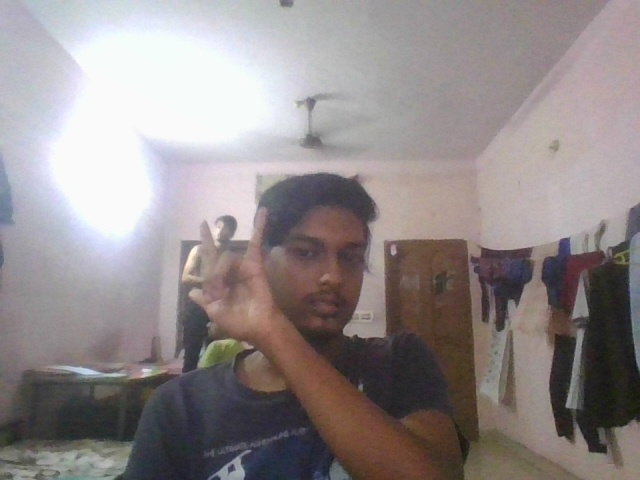iloveyou: (187, 203, 281, 343)
